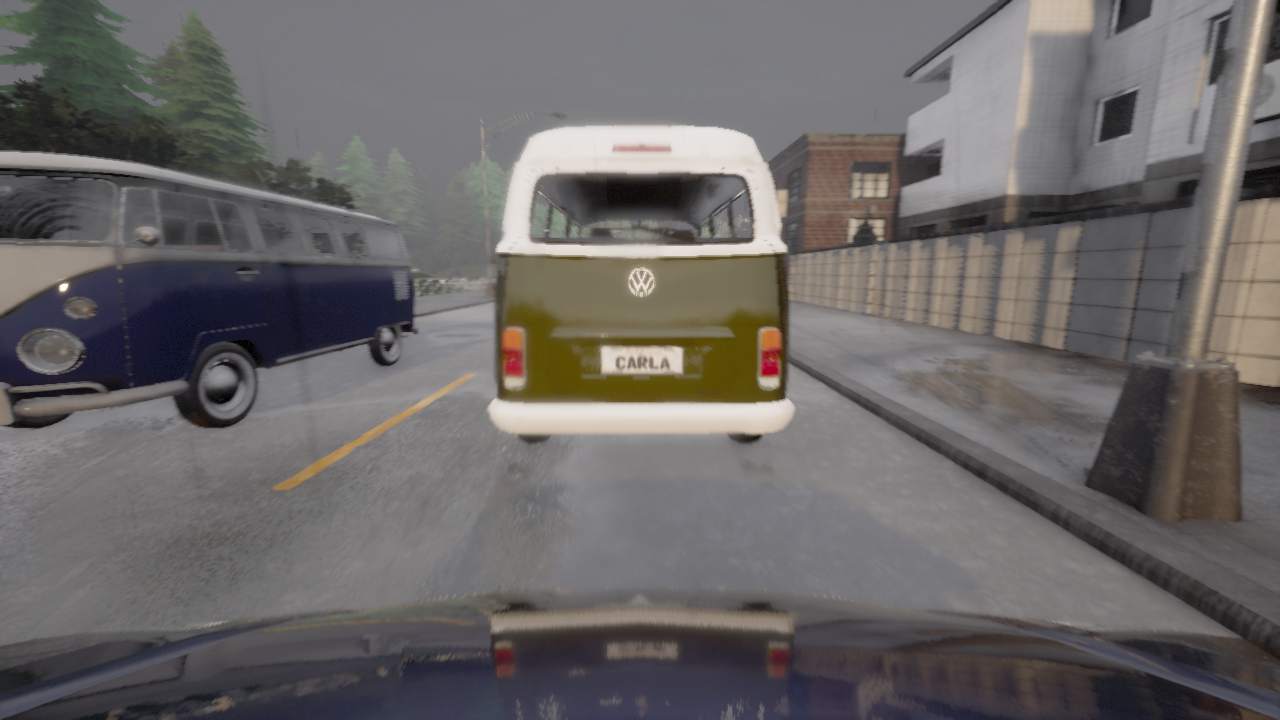cyclist: (0, 588, 1279, 719), (0, 151, 418, 429), (489, 126, 793, 443), (491, 253, 496, 267)
